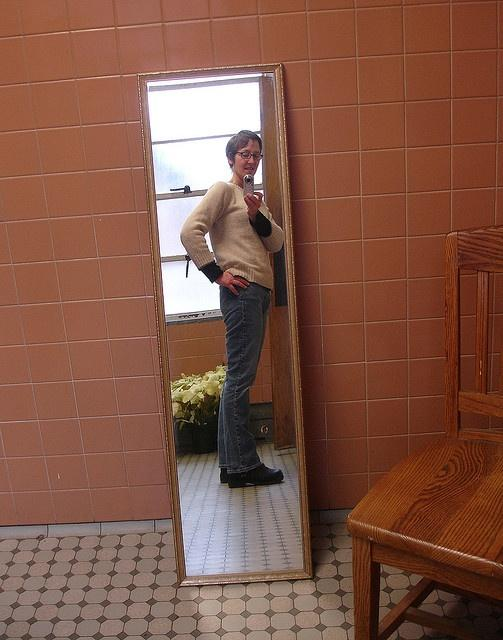Kursi: (342, 222, 502, 638)
